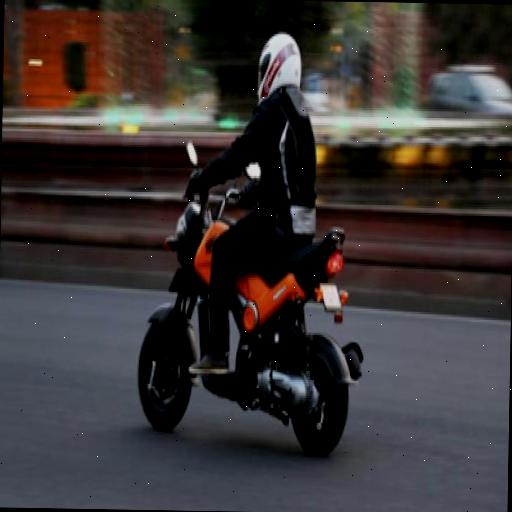helmet: (154, 18, 324, 443)
